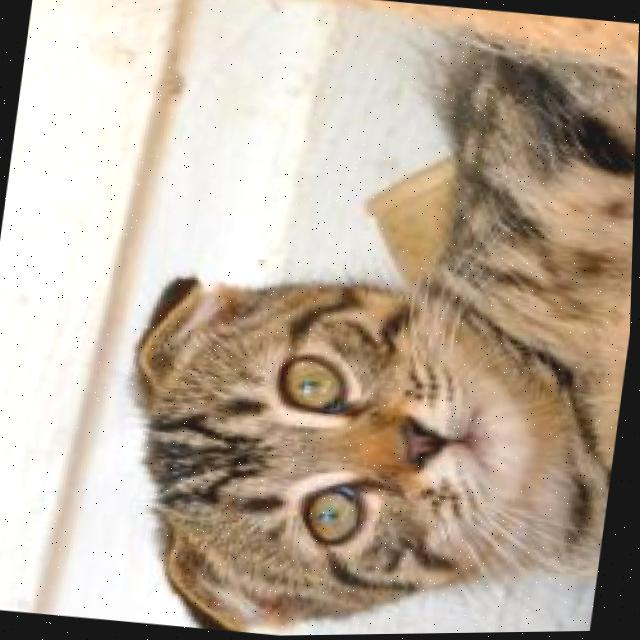Scottish Fold: (94, 0, 640, 639)
